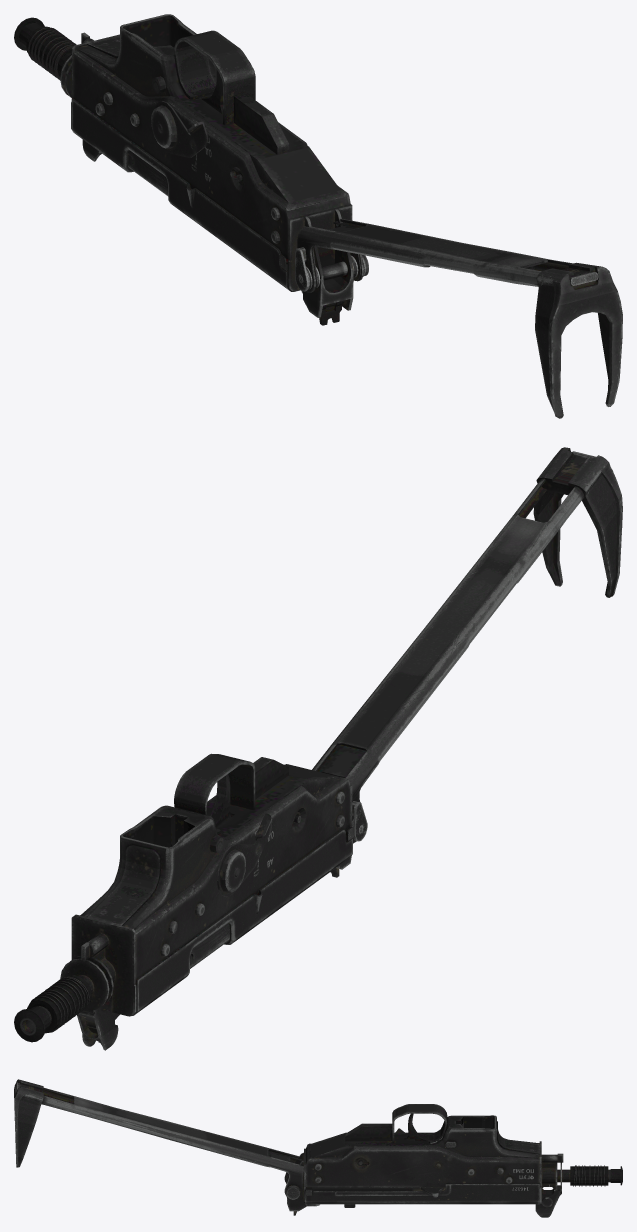
3 renders of one model, top to bottom at view 1: azimuth 30°, elevation 25°; view 2: azimuth 150°, elevation 25°; view 3: azimuth 270°, elevation 25°, orthographic. The views are drawn at different scales.
Visible parts, largest first — view 1: TW_57f3c6bd24597738e730fa2f_PZ_Import; view 2: TW_57f3c6bd24597738e730fa2f_PZ_Import; view 3: TW_57f3c6bd24597738e730fa2f_PZ_Import.
Part boxes in pixels (x1,y1,x2,y2): TW_57f3c6bd24597738e730fa2f_PZ_Import: (14,14,622,418); TW_57f3c6bd24597738e730fa2f_PZ_Import: (14,447,622,1050); TW_57f3c6bd24597738e730fa2f_PZ_Import: (14,1079,622,1217).
Size of the model in its own units: 0.0297 by 0.3061 by 0.0731.
Materials: 1 (1 with a texture image).
